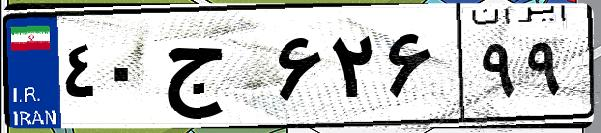0: (110, 28, 158, 98)
2: (330, 28, 385, 110)
4: (57, 26, 110, 100)
6: (270, 28, 330, 110), (385, 28, 445, 110)
9: (475, 38, 525, 113), (525, 38, 570, 115)
ج: (158, 20, 270, 120)
